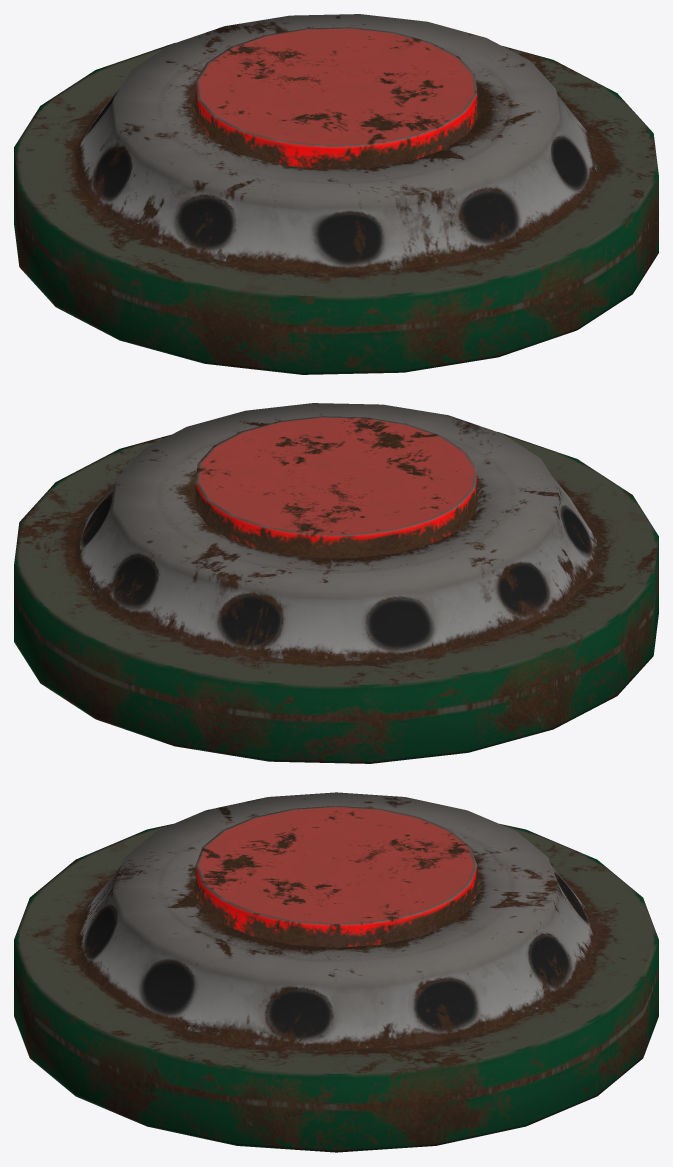
File: Mine1.fbx
3 renders of one model, top to bottom at view 1: azimuth 30°, elevation 25°; view 2: azimuth 150°, elevation 25°; view 3: azimuth 270°, elevation 25°, orthographic.
Visible parts, largest first — view 1: Mine_Lp; view 2: Mine_Lp; view 3: Mine_Lp.
Part boxes in pixels (x1,y1,x2,y2): Mine_Lp: [14, 14, 658, 374]; Mine_Lp: [14, 403, 658, 763]; Mine_Lp: [14, 792, 658, 1152].
Size of the model in its own units: 200 by 51.62 by 200.
Materials: 1 (1 with a texture image).
